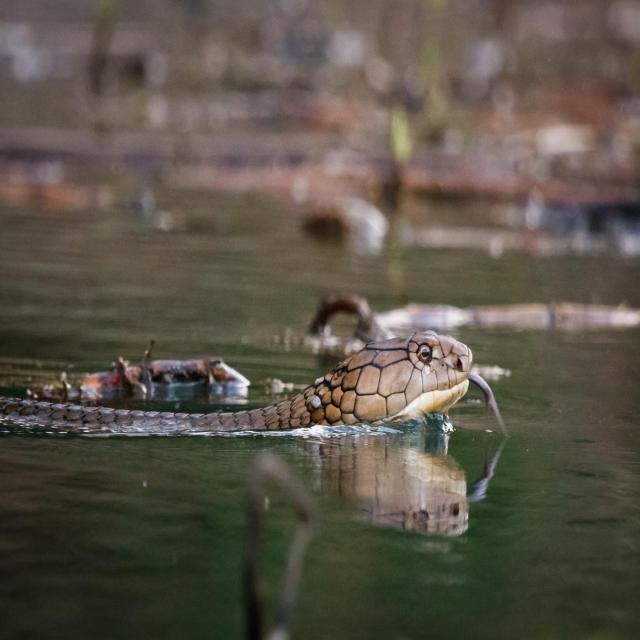Snake: (1, 328, 507, 438)
